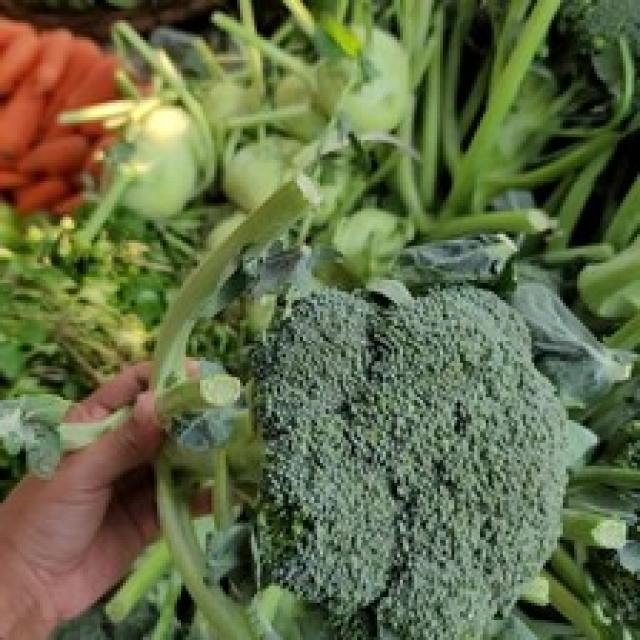Broccoli: (255, 286, 565, 640), (255, 288, 565, 640)
